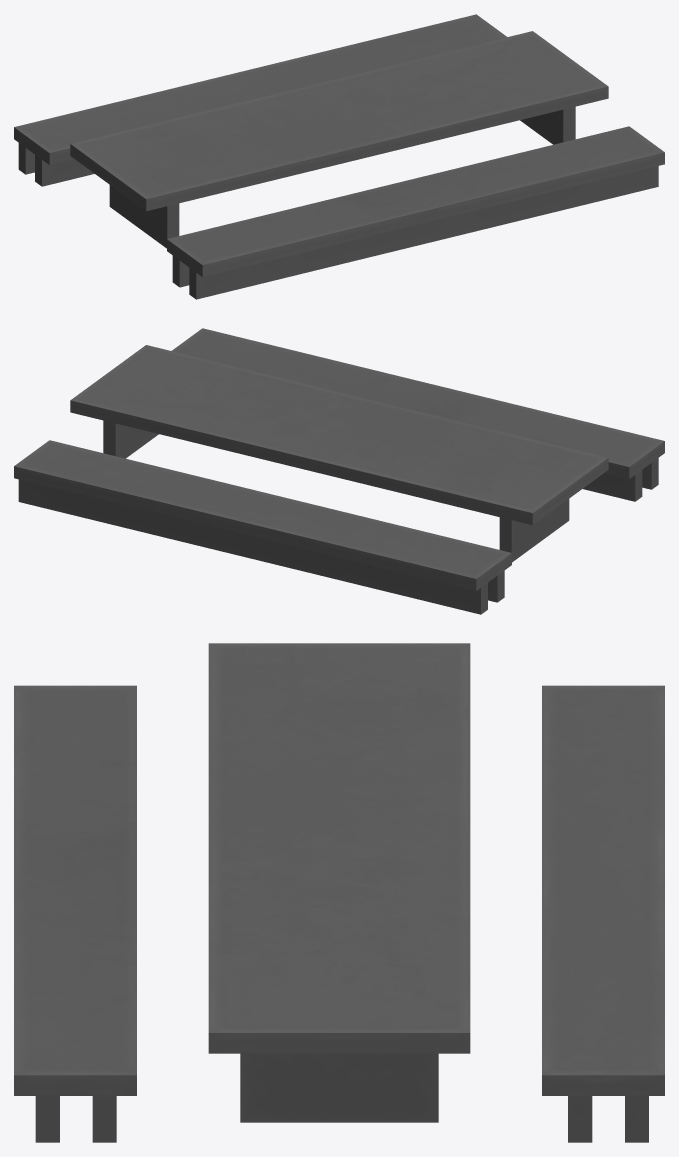
The model's file is Pfb_Canteen__2.fbx.
3 views of the same model, one above another, from view 1: azimuth 30°, elevation 25°; view 2: azimuth 150°, elevation 25°; view 3: azimuth 270°, elevation 25° (orthographic). The views are drawn at different scales.
Parts seen in each view (by area): view 1: Mat_Canteen_02; view 2: Mat_Canteen_02; view 3: Mat_Canteen_02.
Boxes of the visible parts, <box> form: Mat_Canteen_02: <box>14,14,664,299</box>; Mat_Canteen_02: <box>14,328,664,614</box>; Mat_Canteen_02: <box>14,643,664,1142</box>.
Size of the model in its own units: 3.49 by 0.4592 by 2.47.
Materials: 1 (1 with a texture image).
